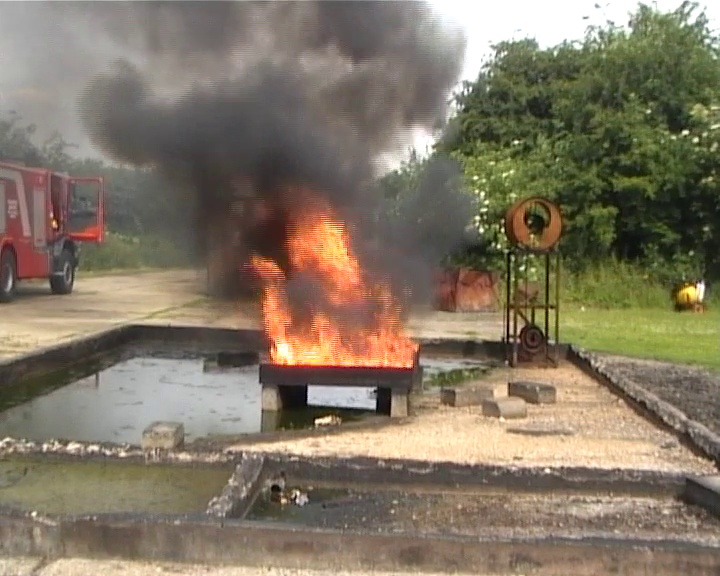fire: (251, 219, 419, 368)
